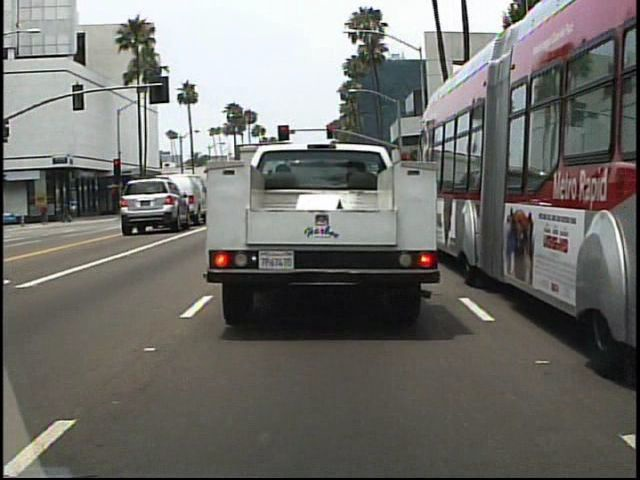person: (37, 195, 55, 226)
